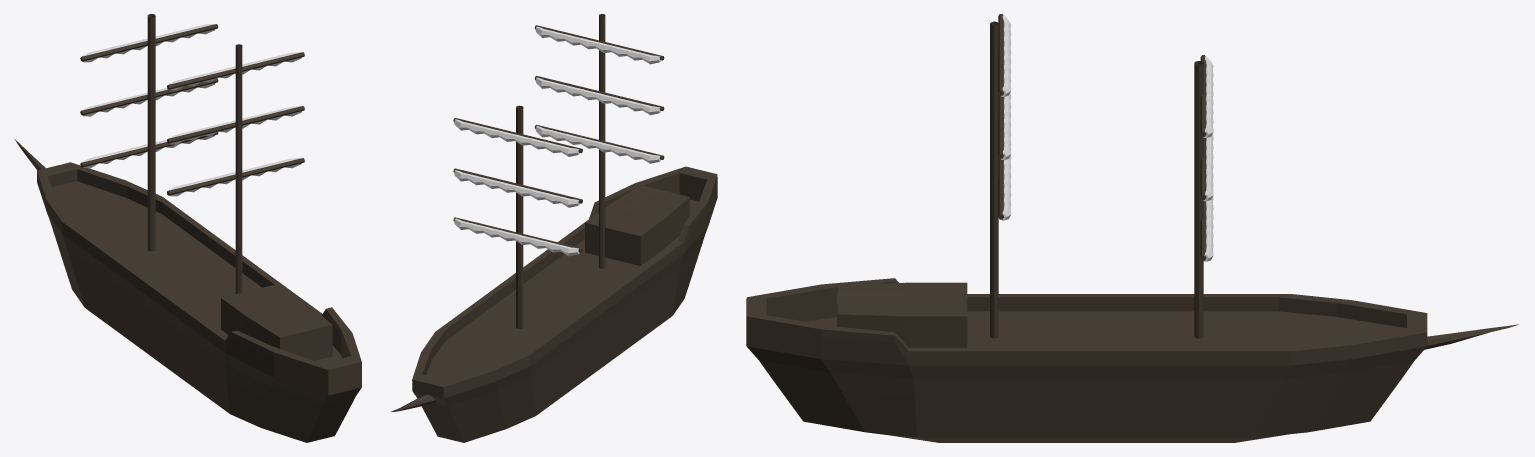
File: Foresight.fbx
The picture shows the model from 3 angles, left to right: view 1: azimuth 30°, elevation 25°; view 2: azimuth 150°, elevation 25°; view 3: azimuth 270°, elevation 25°; orthographic projection. The views are drawn at different scales.
Parts seen in each view (by area): view 1: Ship.001; view 2: Ship.001; view 3: Ship.001.
Boxes of the visible parts, x1,y1,x2,y2 form: Ship.001: (14,14,361,442); Ship.001: (391,14,717,442); Ship.001: (746,14,1518,442).
Bounding box in the file's own units: 871 × 2166 × 3683.
